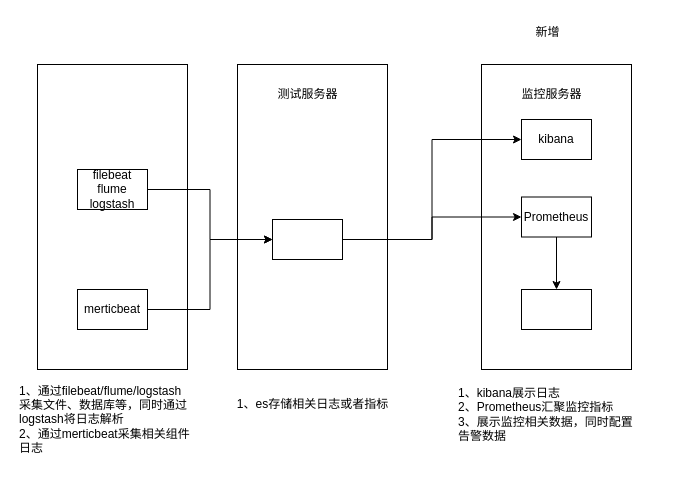
Some shapes in this 673 by 481 pixel diagram are drawn without their labels. Each missing label, with the box of its shape:
es: (272, 218, 342, 260)
grafana: (520, 288, 592, 330)
